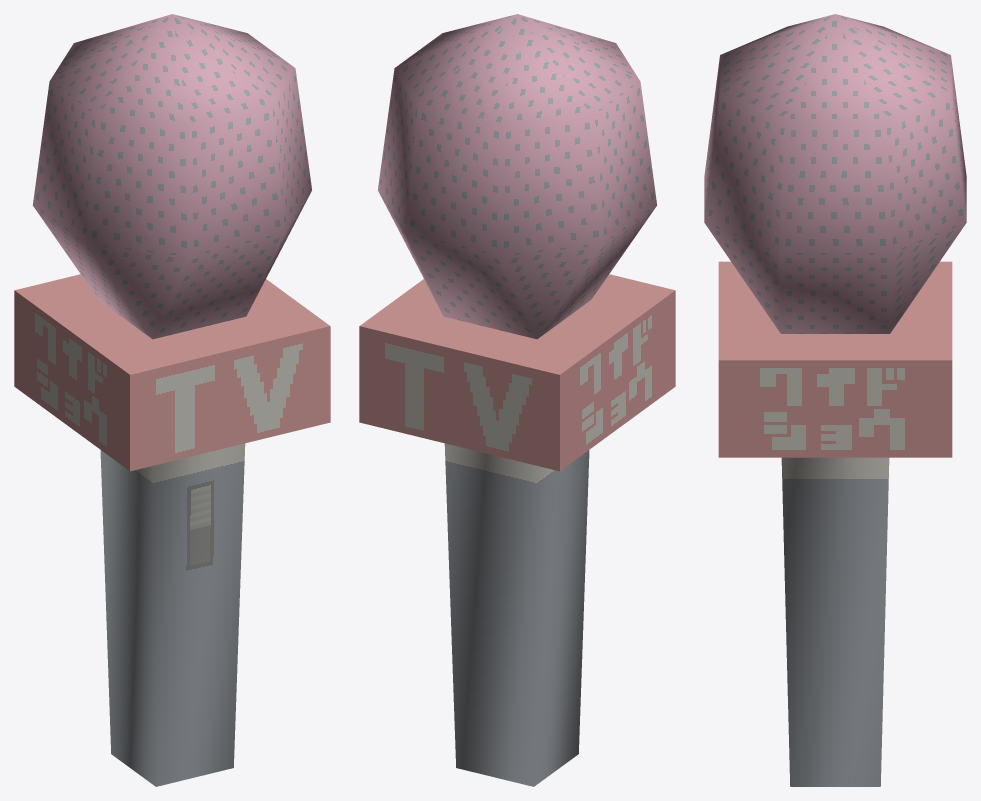
File: 0056_Microphone.glb
3 renders of one model, left to right at view 1: azimuth 30°, elevation 25°; view 2: azimuth 150°, elevation 25°; view 3: azimuth 270°, elevation 25°, orthographic.
Parts seen in each view (by area): view 1: part_0; view 2: part_0; view 3: part_0.
Part boxes in pixels (<box>): part_0: <box>14,14,330,786</box>; part_0: <box>359,14,675,786</box>; part_0: <box>704,14,966,786</box>.
Bounding box in the file's own units: 0.073 × 0.2316 × 0.073.
1 material, 1 textured.
